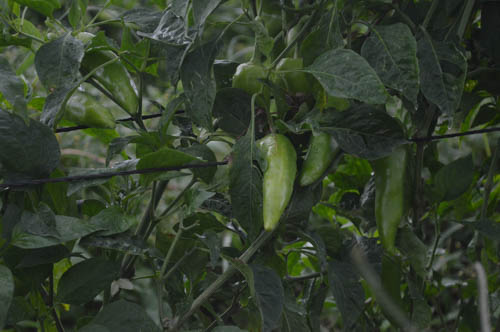ChiliPepper: (75, 31, 143, 116), (376, 143, 409, 258), (255, 134, 292, 231), (299, 131, 345, 195), (60, 89, 117, 132), (272, 51, 312, 98), (232, 59, 269, 102)
